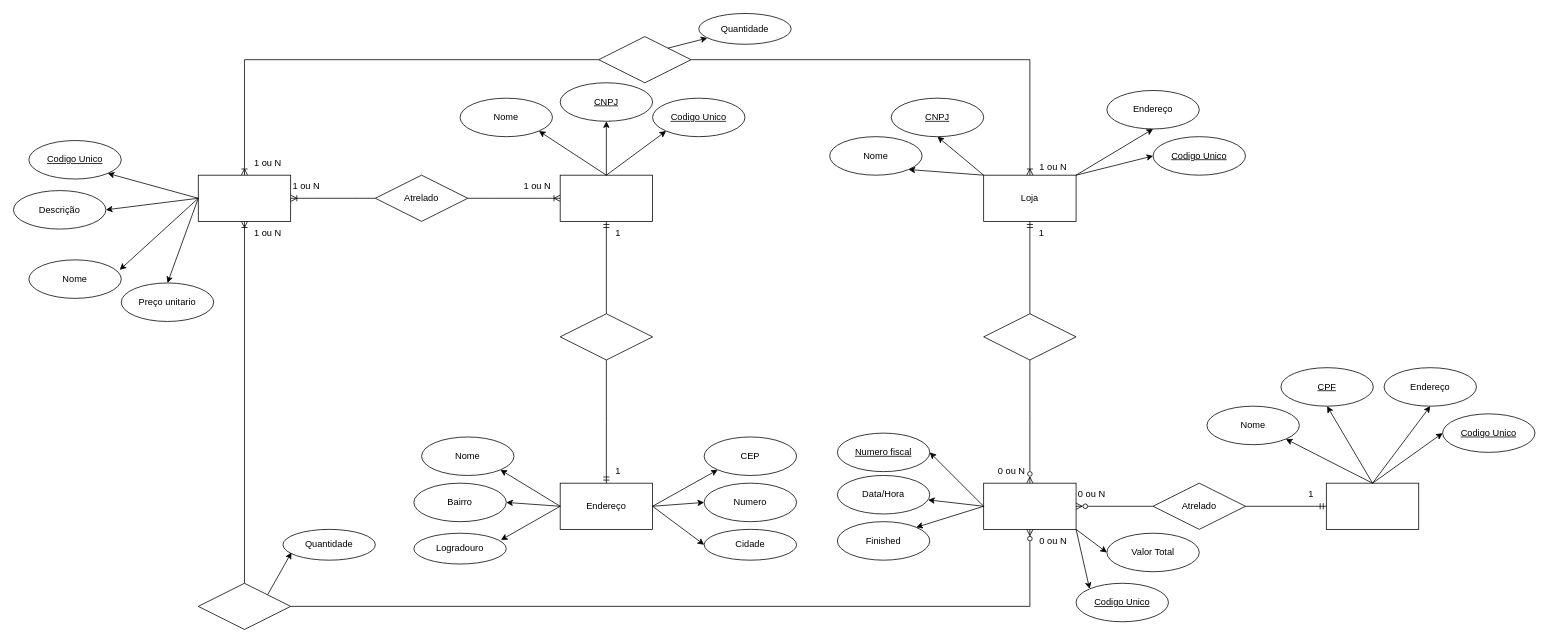
The diagram is 1548 pixels wide and 643 high, and some of its shapes have lost their labels. Here are the shapes that lost their labels. From the top down, the centre of each, then its label:
At point 644,59: "Fornece".
At point 244,197: "Produto".
At point 606,197: "Fornecedor".
At point 606,336: "Possui".
At point 1029,336: "Realiza".
At point 1029,505: "Venda".
At point 1372,505: "Cliente".
At point 244,606: "Contem".
